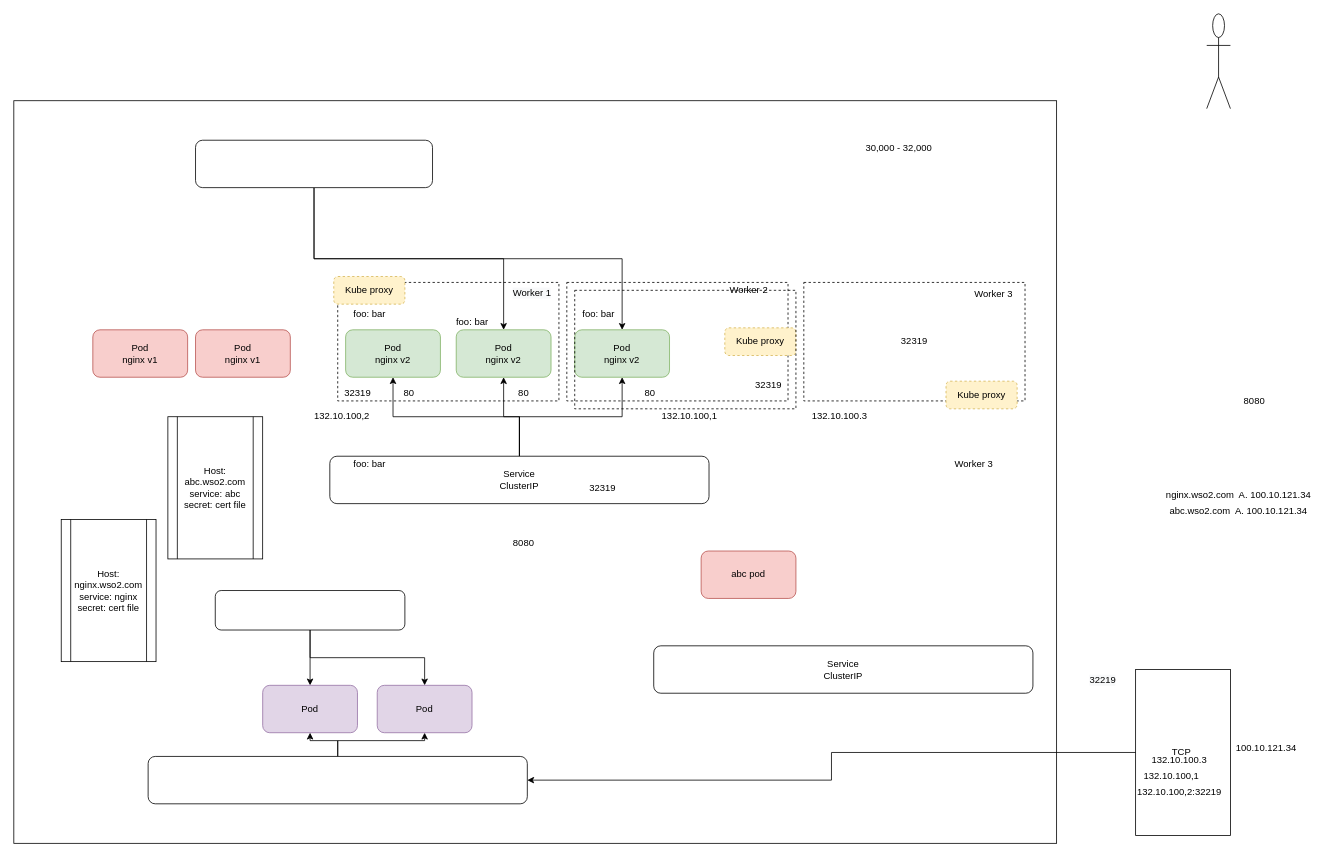
Some shapes in this 1331 by 857 pixel diagram are drawn without their labels. Each missing label, with the centre of its shape:
"Actor" goes at (1218,61).
"Deployment - HAProxy Ingress" goes at (309,610).
"Deployments replicas = 3 template spec - nginx v2" goes at (314,163).
"Service LoadBalancer" goes at (337,780).
